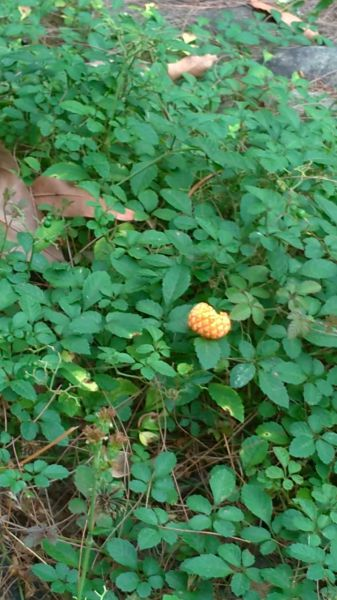eggs: (183, 296, 238, 343)
